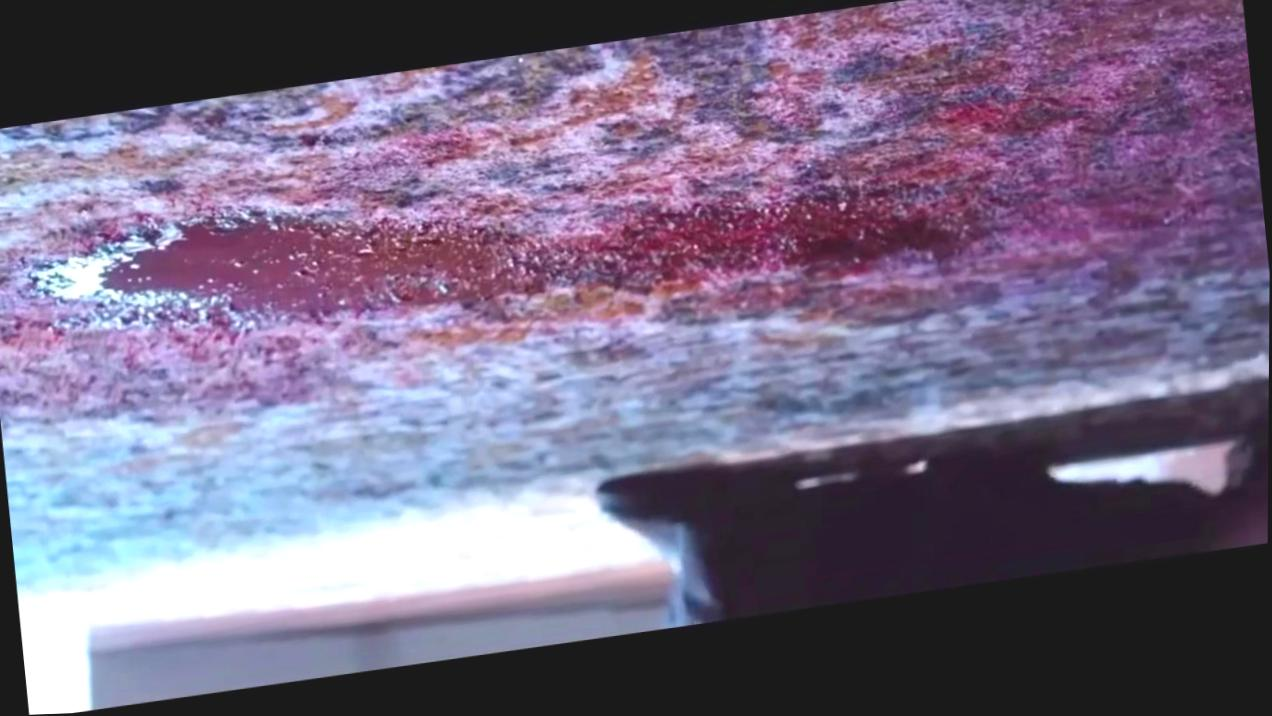Fire: (0, 85, 1197, 352)
